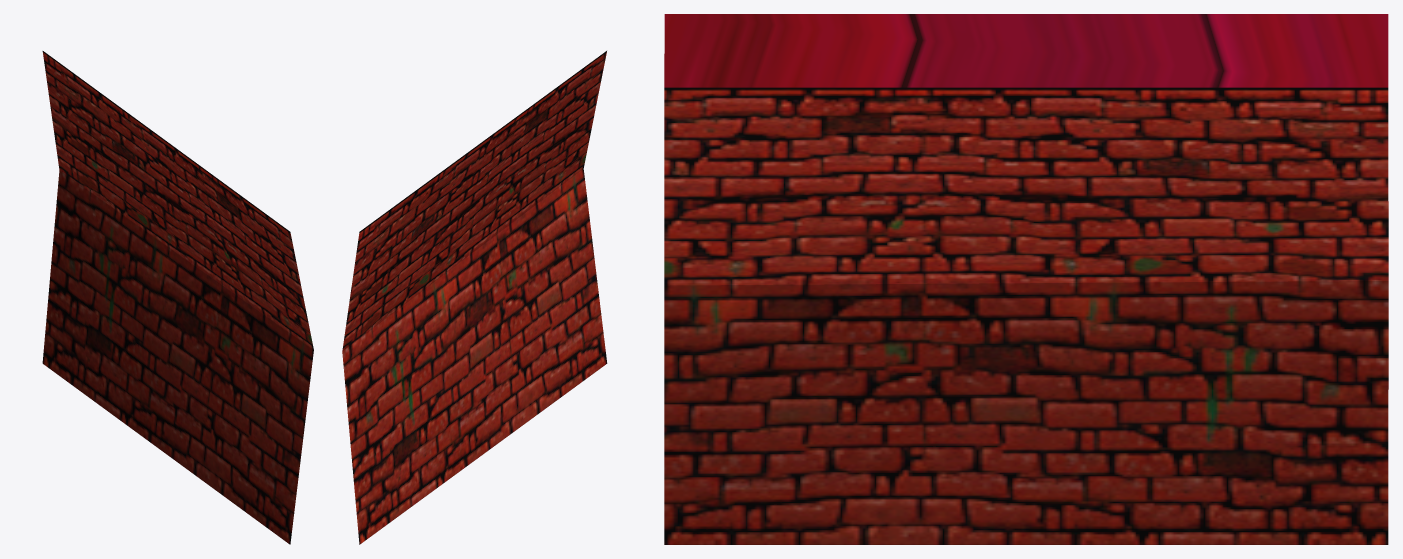
Rendered from W_A3_xx [DunkleZIegel]_2472.glb.
3 views of the same model, side by side, from view 1: azimuth 30°, elevation 25°; view 2: azimuth 150°, elevation 25°; view 3: azimuth 270°, elevation 25° (orthographic). The views are drawn at different scales.
Visible parts, largest first — view 1: pPlaneShape1; view 2: pPlaneShape1; view 3: pPlaneShape1, polySurfaceShape1065.
Boxes of the visible parts, bbox=[...] form: pPlaneShape1: bbox=[42, 51, 313, 544]; pPlaneShape1: bbox=[342, 51, 607, 544]; pPlaneShape1: bbox=[664, 87, 1388, 544]; polySurfaceShape1065: bbox=[664, 14, 1388, 87].
Bounding box in the file's own units: 0.0607 × 0.3891 × 0.5003.
2 materials, 2 textured.
